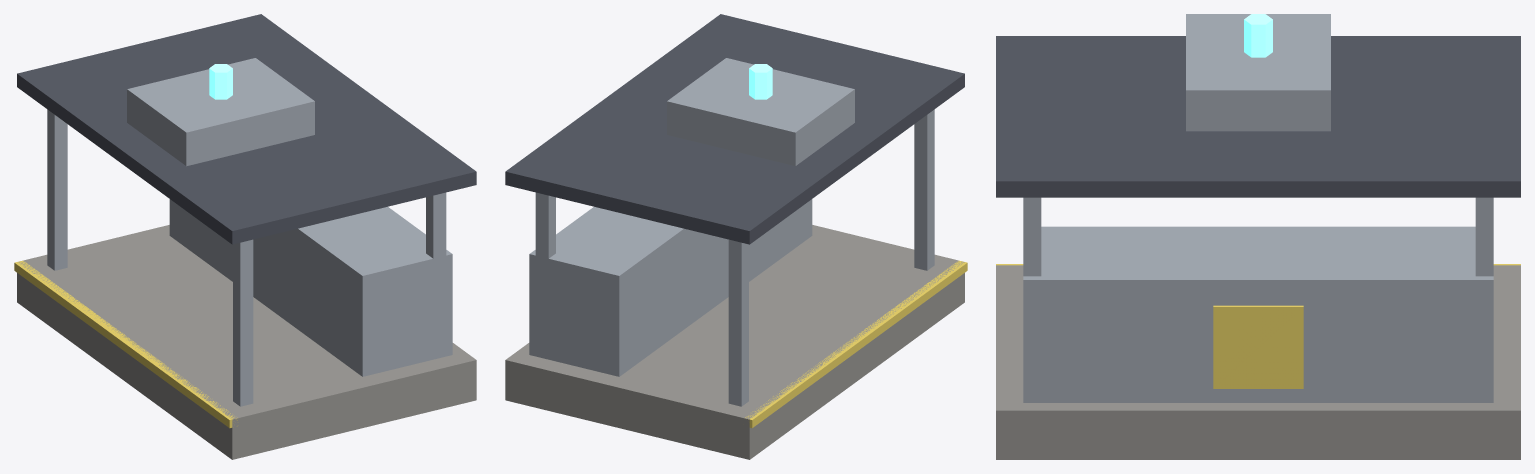
Rendered from estacao.glb.
The picture shows the model from 3 angles, left to right: view 1: azimuth 30°, elevation 25°; view 2: azimuth 150°, elevation 25°; view 3: azimuth 270°, elevation 25°; orthographic projection. The views are drawn at different scales.
Parts seen in each view (by area): view 1: estacao; view 2: estacao; view 3: estacao.
Part boxes in pixels (box(x1,y1,x2,y2)): estacao: box(14, 14, 476, 459); estacao: box(505, 14, 967, 459); estacao: box(996, 14, 1520, 459).
Size of the model in its own units: 1.92 by 2.15 by 2.9.
